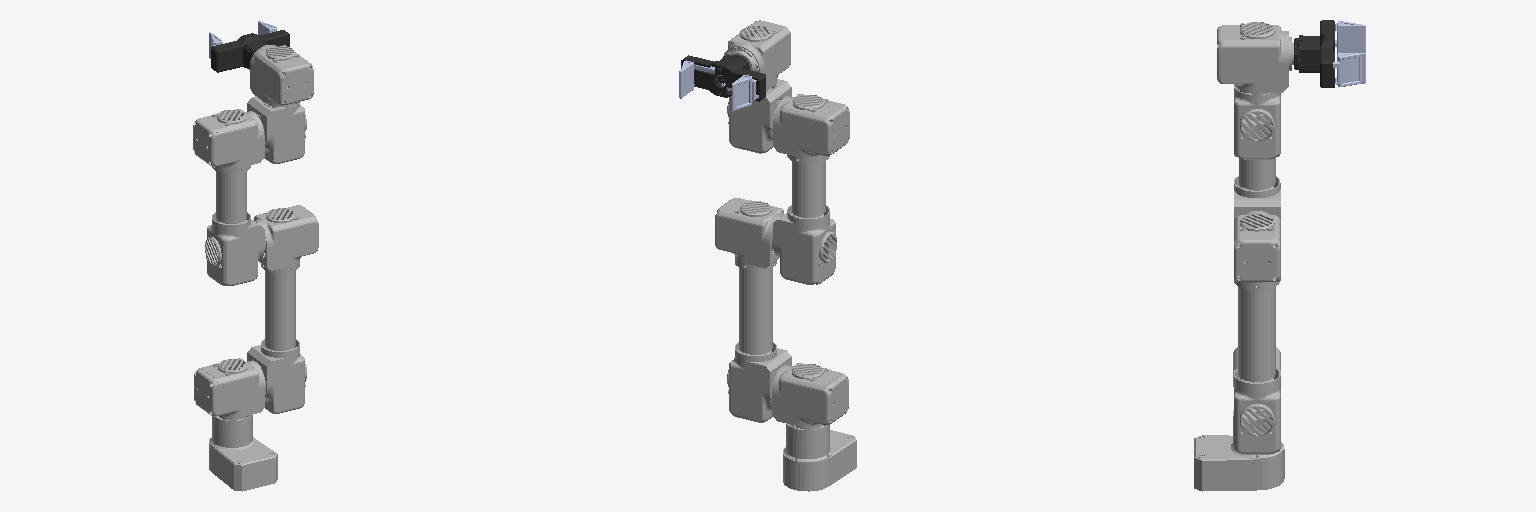
URDF robot description (arm_description):
<?xml version="1.0" encoding="utf-8"?>
<!-- This URDF was automatically created by SolidWorks to URDF Exporter! Originally created by [author] ([email redacted]) 
     Commit Version: 1.6.0-4-g7f85cfe  Build Version: 1.6.7995.38578
     For more information, please see http://wiki.ros.org/sw_urdf_exporter -->
<robot name="arm_description">
  <link name="world" />
  <joint name="world_to_base" type="fixed">
    <parent link="world" />
    <child link="base_link" />
    <origin xyz="0 0 0" rpy="0 0 0" />
  </joint>
  <link name="base_link">
    <inertial>
      <origin xyz="-2.08175701580243E-05 -0.0215944619940899 0.0386965059587762" rpy="0 0 0" />
      <mass value="0.226867575584474" />
      <inertia ixx="0.000310138970163127" ixy="3.57652047089324E-08" ixz="2.76570159637442E-09" iyy="0.000172445953154283" iyz="-1.18759040248718E-05" izz="0.000403590658467127" />
    </inertial>
    <visual>
      <origin xyz="0 0 0" rpy="0 0 0" />
      <geometry>
        <mesh filename="package://arm_description/meshes/base_link.STL" />
      </geometry>
      <material name="">
        <color rgba="0.752941176470588 0.752941176470588 0.752941176470588 1" />
      </material>
    </visual>
    <collision>
      <origin xyz="0 0 0" rpy="0 0 0" />
      <geometry>
        <mesh filename="package://arm_description/meshes/base_link.STL" />
      </geometry>
    </collision>
  </link>
  <link name="link_1">
    <inertial>
      <origin xyz="0.00362239334791756 -3.81795642908633E-05 0.140982620125569" rpy="0 0 0" />
      <mass value="0.141639977131661" />
      <inertia ixx="8.98141382308835E-05" ixy="1.13468736177962E-08" ixz="3.51673525250542E-06" iyy="9.15722320805618E-05" iyz="3.6542592292488E-08" izz="0.000140053948831358" />
    </inertial>
    <visual>
      <origin xyz="0 0 0" rpy="0 0 0" />
      <geometry>
        <mesh filename="package://arm_description/meshes/link_1.STL" />
      </geometry>
      <material name="">
        <color rgba="0.752941176470588 0.752941176470588 0.752941176470588 1" />
      </material>
    </visual>
    <collision>
      <origin xyz="0 0 0" rpy="0 0 0" />
      <geometry>
        <mesh filename="package://arm_description/meshes/link_1.STL" />
      </geometry>
    </collision>
  </link>
  <joint name="joint_1" type="revolute">
    <origin xyz="0 0 0" rpy="0 0 0" />
    <parent link="base_link" />
    <child link="link_1" />
    <axis xyz="0 0 1" />
    <limit lower="-0.785398" upper="3.92699" effort="2" velocity="3" />
  </joint>
  <link name="link_2">
    <inertial>
      <origin xyz="7.53940182482427E-06 0.00505678180282546 0.0842129380713663" rpy="0 0 0" />
      <mass value="0.143507549223786" />
      <inertia ixx="9.77478537604331E-05" ixy="-1.67427633619241E-08" ixz="-1.8083438756804E-08" iyy="9.07459548934155E-05" iyz="3.57849204977034E-06" izz="0.000147113534917112" />
    </inertial>
    <visual>
      <origin xyz="0 0 0" rpy="0 0 0" />
      <geometry>
        <mesh filename="package://arm_description/meshes/link_2.STL" />
      </geometry>
      <material name="">
        <color rgba="0.752941176470588 0.752941176470588 0.752941176470588 1" />
      </material>
    </visual>
    <collision>
      <origin xyz="0 0 0" rpy="0 0 0" />
      <geometry>
        <mesh filename="package://arm_description/meshes/link_2.STL" />
      </geometry>
    </collision>
  </link>
  <joint name="joint_2" type="revolute">
    <origin xyz="0 0 0.1464" rpy="1.5707963267949 0 1.5707963267949" />
    <parent link="link_1" />
    <child link="link_2" />
    <axis xyz="0 0 1" />
    <limit lower="-1.57" upper="1.57" effort="2" velocity="3" />
  </joint>
  <link name="link_3">
    <inertial>
      <origin xyz="-0.00330775018246701 -1.51931359661378E-05 -0.215292675404989" rpy="0 0 0" />
      <mass value="0.173954075434222" />
      <inertia ixx="0.000144630940442922" ixy="-1.32847181187994E-07" ixz="3.53526021477459E-06" iyy="0.000147338139082199" iyz="-6.41277682295082E-09" izz="0.000161646518516295" />
    </inertial>
    <visual>
      <origin xyz="0 0 0" rpy="0 0 0" />
      <geometry>
        <mesh filename="package://arm_description/meshes/link_3.STL" />
      </geometry>
      <material name="">
        <color rgba="0.752941176470588 0.752941176470588 0.752941176470588 1" />
      </material>
    </visual>
    <collision>
      <origin xyz="0 0 0" rpy="0 0 0" />
      <geometry>
        <mesh filename="package://arm_description/meshes/link_3.STL" />
      </geometry>
    </collision>
  </link>
  <joint name="joint_3" type="revolute">
    <origin xyz="0 0 0.0894999999999936" rpy="1.5707963267949 -1.5707963267949 0" />
    <parent link="link_2" />
    <child link="link_3" />
    <axis xyz="0 0 -1" />
    <limit lower="-3.14" upper="3.14" effort="2" velocity="3" />
  </joint>
  <link name="link_4">
    <inertial>
      <origin xyz="-3.69732387454358E-05 -0.0033965928719577 0.0858843482112302" rpy="0 0 0" />
      <mass value="0.148325167434625" />
      <inertia ixx="9.83824919124809E-05" ixy="-8.95348942306975E-09" ixz="3.53186062441229E-08" iyy="9.2436601034005E-05" iyz="-3.58230406317328E-06" izz="0.000148216123686448" />
    </inertial>
    <visual>
      <origin xyz="0 0 0" rpy="0 0 0" />
      <geometry>
        <mesh filename="package://arm_description/meshes/link_4.STL" />
      </geometry>
      <material name="">
        <color rgba="0.752941176470588 0.752941176470588 0.752941176470588 1" />
      </material>
    </visual>
    <collision>
      <origin xyz="0 0 0" rpy="0 0 0" />
      <geometry>
        <mesh filename="package://arm_description/meshes/link_4.STL" />
      </geometry>
    </collision>
  </link>
  <joint name="joint_4" type="revolute">
    <origin xyz="0 0 -0.24698520586243" rpy="1.5707963267949 0 -1.5707963267949" />
    <parent link="link_3" />
    <child link="link_4" />
    <axis xyz="0 0 1" />
    <limit lower="-2.09" upper="2.09" effort="2" velocity="3" />
  </joint>
  <link name="link_5">
    <inertial>
      <origin xyz="0.00206792792814742 -2.76614863313485E-05 0.175346578298024" rpy="0 0 0" />
      <mass value="0.170949127914978" />
      <inertia ixx="0.000112877897565311" ixy="1.33876282485736E-07" ixz="3.50583392437512E-06" iyy="0.00011462399449212" iyz="-1.95086999820314E-08" izz="0.000157908884644634" />
    </inertial>
    <visual>
      <origin xyz="0 0 0" rpy="0 0 0" />
      <geometry>
        <mesh filename="package://arm_description/meshes/link_5.STL" />
      </geometry>
      <material name="">
        <color rgba="0.752941176470588 0.752941176470588 0.752941176470588 1" />
      </material>
    </visual>
    <collision>
      <origin xyz="0 0 0" rpy="0 0 0" />
      <geometry>
        <mesh filename="package://arm_description/meshes/link_5.STL" />
      </geometry>
    </collision>
  </link>
  <joint name="joint_5" type="revolute">
    <origin xyz="0 0 0.0909852058624292" rpy="1.5707963267949 1.5707963267949 0" />
    <parent link="link_4" />
    <child link="link_5" />
    <axis xyz="0 0 1" />
    <limit lower="-3.14" upper="3.14" effort="2" velocity="3" />
  </joint>
  <link name="link_6">
    <inertial>
      <origin xyz="4.11085997713834E-05 0.00257530402715256 0.0857796541219091" rpy="0 0 0" />
      <mass value="0.145620756588228" />
      <inertia ixx="9.17894079115679E-05" ixy="-9.76230646695324E-09" ixz="-3.67352230545471E-08" iyy="9.06990729876771E-05" iyz="3.51811623142639E-06" izz="0.000140766609119444" />
    </inertial>
    <visual>
      <origin xyz="0 0 0" rpy="0 0 0" />
      <geometry>
        <mesh filename="package://arm_description/meshes/link_6.STL" />
      </geometry>
      <material name="">
        <color rgba="0.752941176470588 0.752941176470588 0.752941176470588 1" />
      </material>
    </visual>
    <collision>
      <origin xyz="0 0 0" rpy="0 0 0" />
      <geometry>
        <mesh filename="package://arm_description/meshes/link_6.STL" />
      </geometry>
    </collision>
  </link>
  <joint name="joint_6" type="revolute">
    <origin xyz="0 0 0.19698520586243" rpy="1.5707963267949 0 1.5707963267949" />
    <parent link="link_5" />
    <child link="link_6" />
    <axis xyz="0 0 1" />
    <limit lower="-2.09" upper="2.09" effort="2" velocity="3" />
  </joint>
  <link name="link_7">
    <inertial>
      <origin xyz="3.04281750932445E-05 0.00389253372731124 -0.0873287224716447" rpy="0 0 0" />
      <mass value="0.208798877978331" />
      <inertia ixx="0.000104218009947256" ixy="1.74574824717128E-08" ixz="5.38289410367358E-08" iyy="0.000112327075315552" iyz="3.51730775061429E-06" izz="0.00015338924637272" />
    </inertial>
    <visual>
      <origin xyz="0 0 0" rpy="0 0 0" />
      <geometry>
        <mesh filename="package://arm_description/meshes/link_7.STL" />
      </geometry>
      <material name="">
        <color rgba="0.752941176470588 0.752941176470588 0.752941176470588 1" />
      </material>
    </visual>
    <collision>
      <origin xyz="0 0 0" rpy="0 0 0" />
      <geometry>
        <mesh filename="package://arm_description/meshes/link_7.STL" />
      </geometry>
    </collision>
  </link>
  <joint name="joint_7" type="revolute">
    <origin xyz="0 0 0.0909852058624294" rpy="1.5707963267949 -1.5707963267949 0" />
    <parent link="link_6" />
    <child link="link_7" />
    <axis xyz="0 0 -1" />
    <limit lower="-2.09" upper="2.09" effort="2" velocity="3" />
  </joint>
  <link name="tool_frame">
    <inertial>
      <origin xyz="2.64411535884357E-05 9.79545500181533E-05 0.0184262437077161" rpy="0 0 0" />
      <mass value="0.125010719073419" />
      <inertia ixx="2.2629392203171E-05" ixy="2.32911033544108E-06" ixz="8.5900261072939E-10" iyy="0.00012815635241114" iyz="5.55851104809067E-09" izz="0.000144851958518917" />
    </inertial>
    <visual>
      <origin xyz="0 0 0" rpy="0 0 0" />
      <geometry>
        <mesh filename="package://arm_description/meshes/tool_frame.STL" />
      </geometry>
      <material name="">
        <color rgba="0.250980392156863 0.250980392156863 0.250980392156863 1" />
      </material>
    </visual>
    <collision>
      <origin xyz="0 0 0" rpy="0 0 0" />
      <geometry>
        <mesh filename="package://arm_description/meshes/tool_frame.STL" />
      </geometry>
    </collision>
  </link>
  <joint name="tool_joint" type="revolute">
    <origin xyz="0 -0.102485205862441 -0.0909852058624315" rpy="-1.5707963267949 0 0" />
    <parent link="link_7" />
    <child link="tool_frame" />
    <axis xyz="0 0 -1" />
    <limit lower="-2.09" upper="2.09" effort="2" velocity="3" />
  </joint>
  <link name="grip_left">
    <inertial>
      <origin xyz="-0.0454469154965145 -0.00225339802100599 -0.0156033496088577" rpy="0 0 0" />
      <mass value="0.0199960953484895" />
      <inertia ixx="6.8520261009693E-06" ixy="6.28134392390056E-07" ixz="-1.03874099356176E-06" iyy="6.67336841270338E-06" iyz="8.79996273613866E-07" izz="5.95029100616287E-06" />
    </inertial>
    <visual>
      <origin xyz="0 0 0" rpy="0 0 0" />
      <geometry>
        <mesh filename="package://arm_description/meshes/grip_left.STL" />
      </geometry>
      <material name="">
        <color rgba="0.792156862745098 0.819607843137255 0.933333333333333 1" />
      </material>
    </visual>
    <collision>
      <origin xyz="0 0 0" rpy="0 0 0" />
      <geometry>
        <mesh filename="package://arm_description/meshes/grip_left.STL" />
      </geometry>
    </collision>
  </link>
  <joint name="grip_left" type="prismatic">
    <origin xyz="0 0 0" rpy="0 0 0" />
    <parent link="tool_frame" />
    <child link="grip_left" />
    <axis xyz="-1 0 0" />
    <limit lower="-0.04" upper="0" effort="1" velocity="0.5" />
  </joint>
  <link name="grip_right">
    <inertial>
      <origin xyz="0.0454469154965374 0.00225339802100588 -0.0156033496088577" rpy="0 0 0" />
      <mass value="0.0199960953484896" />
      <inertia ixx="6.85202610096932E-06" ixy="6.28134392390057E-07" ixz="1.03874099356176E-06" iyy="6.67336841270338E-06" iyz="-8.7999627361387E-07" izz="5.95029100616287E-06" />
    </inertial>
    <visual>
      <origin xyz="0 0 0" rpy="0 0 0" />
      <geometry>
        <mesh filename="package://arm_description/meshes/grip_right.STL" />
      </geometry>
      <material name="">
        <color rgba="0.792156862745098 0.819607843137255 0.933333333333333 1" />
      </material>
    </visual>
    <collision>
      <origin xyz="0 0 0" rpy="0 0 0" />
      <geometry>
        <mesh filename="package://arm_description/meshes/grip_right.STL" />
      </geometry>
    </collision>
  </link>
  <joint name="grip_right" type="prismatic">
    <origin xyz="0 0 0" rpy="0 0 0" />
    <parent link="tool_frame" />
    <child link="grip_right" />
    <axis xyz="-1 0 0" />
    <limit lower="0" upper="0.04" effort="1" velocity="0.5" />
  </joint>
</robot>

--- Facts derived from the render (not from the file) ---
Views: 3 orthographic renders of the robot side by side, from view 1: azimuth 30°, elevation 25°; view 2: azimuth 150°, elevation 25°; view 3: azimuth 270°, elevation 25°.
Robot: arm_description — 12 links, 11 joints (8 revolute, 2 prismatic, 1 fixed); root link world; default pose: every joint at zero.
Visible links, largest first — view 1: link_3, link_5, base_link, link_1, link_4, link_7, link_2, link_6, tool_frame; view 2: link_3, link_5, link_1, base_link, link_4, link_2, link_7, link_6, tool_frame, grip_left, grip_right; view 3: link_3, link_7, base_link, link_2, link_6, tool_frame, link_4, link_5, grip_right, grip_left.
Link boxes in pixels (x1,y1,x2,y2): link_3: (254,205,318,350); link_5: (193,109,264,223); base_link: (209,415,277,491); link_1: (194,358,265,417); link_4: (205,212,264,285); link_7: (250,45,313,105); link_2: (247,339,306,413); link_6: (247,96,306,163); tool_frame: (211,30,289,72); link_3: (715,198,783,354); link_5: (773,94,849,217); link_1: (772,363,848,426); base_link: (783,423,856,491); link_4: (773,205,836,284); link_2: (727,342,791,422); link_7: (723,20,790,91); link_6: (727,79,791,153); tool_frame: (681,54,765,101); grip_left: (721,75,758,111); grip_right: (679,60,721,98); link_3: (1234,211,1280,381); link_7: (1217,22,1293,92); base_link: (1194,411,1284,491); link_2: (1234,369,1280,454); link_6: (1234,85,1280,159); tool_frame: (1294,20,1334,87); link_4: (1234,176,1280,219); link_5: (1239,116,1275,189); grip_right: (1333,53,1365,86); grip_left: (1335,21,1365,52).
Bounding box of the posed robot: 0.2149 × 0.2345 × 0.7196 m (x, y, z).
Meshes: 11 distinct files referenced, 11 mesh visuals loaded (11 binary STL).